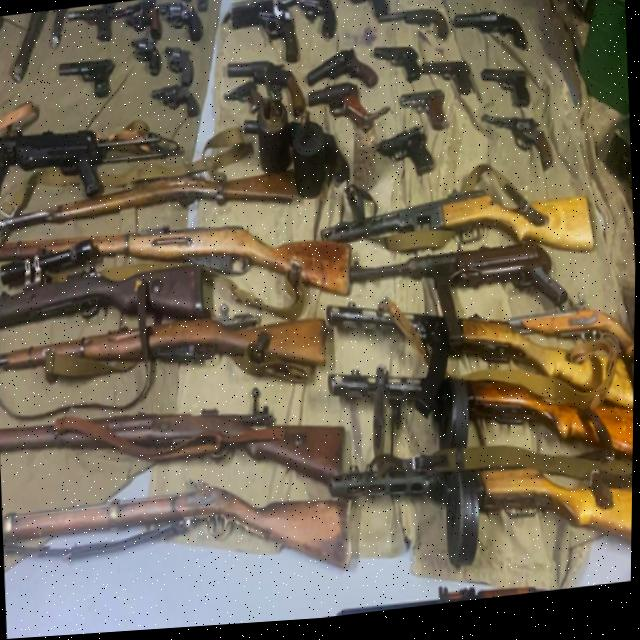firearm: (327, 342, 636, 505), (2, 474, 356, 609), (0, 200, 353, 335), (332, 438, 635, 587), (0, 387, 346, 517), (0, 311, 330, 405), (320, 186, 597, 288), (349, 243, 571, 362), (236, 569, 633, 627), (0, 230, 207, 340), (0, 165, 299, 237), (0, 120, 104, 210)
grenade: (288, 110, 332, 202), (257, 89, 296, 178)
pistol: (508, 310, 636, 384), (227, 56, 307, 126), (483, 114, 554, 181), (307, 85, 374, 142), (305, 51, 378, 99), (455, 14, 528, 62), (379, 132, 436, 186), (278, 0, 338, 48), (379, 12, 450, 52), (59, 57, 118, 104), (260, 10, 300, 70), (481, 73, 532, 118), (422, 64, 473, 106), (401, 95, 447, 140), (374, 47, 422, 90), (115, 2, 162, 44), (159, 3, 203, 47), (66, 8, 114, 48), (152, 86, 202, 122), (329, 0, 390, 27), (129, 38, 162, 81), (165, 47, 195, 92), (224, 83, 260, 119)
